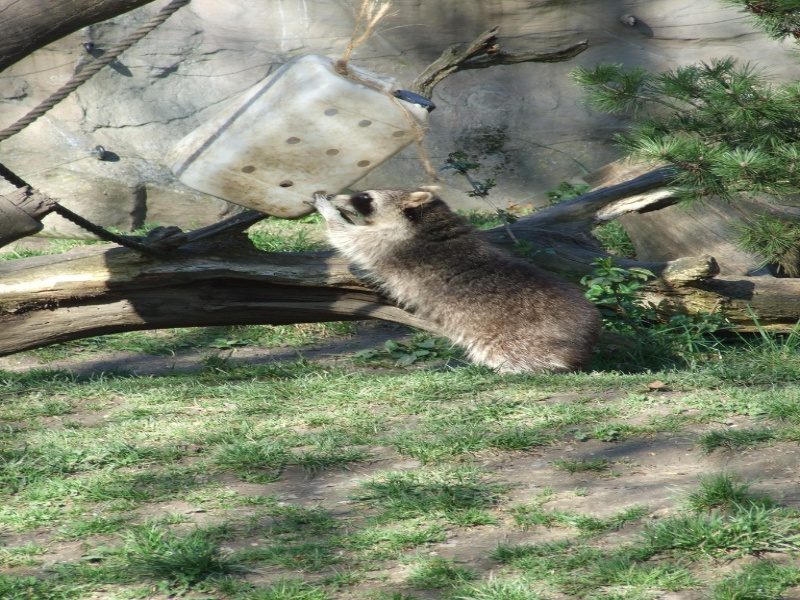raccoon: (301, 180, 642, 383)
